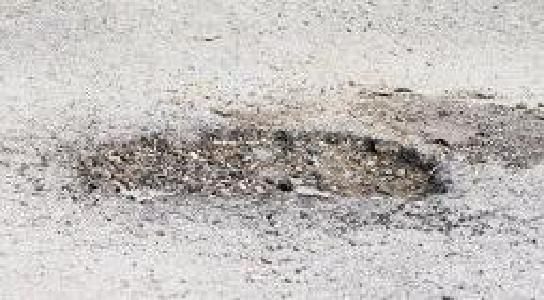pothole: (75, 122, 452, 204)
